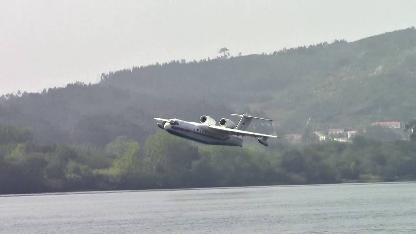B52: (153, 112, 283, 148)
